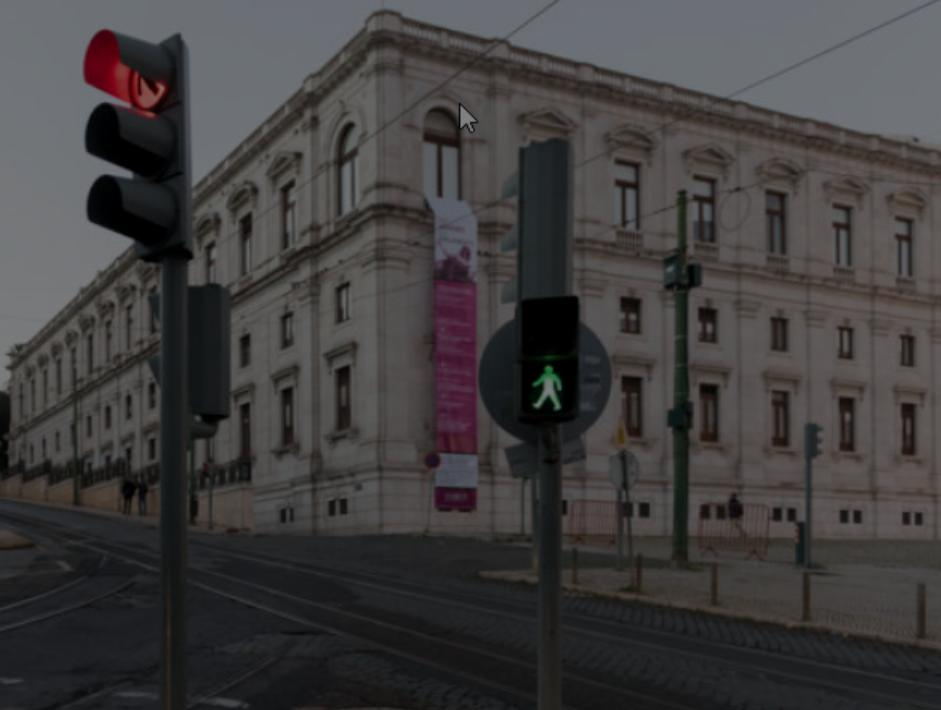red_light: (82, 28, 195, 262)
